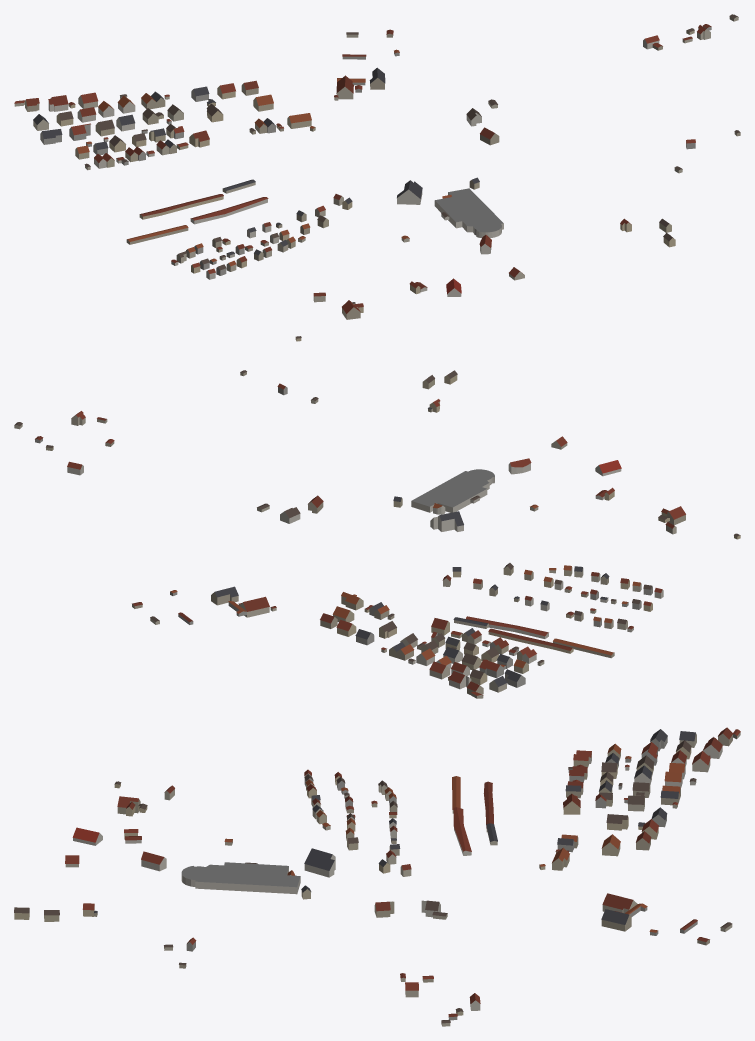
The picture shows the model from 3 angles, top to bottom: view 1: azimuth 30°, elevation 25°; view 2: azimuth 150°, elevation 25°; view 3: azimuth 270°, elevation 25°; orthographic projection. The views are drawn at different scales.
Parts seen in each view (by area): view 1: buildings; view 2: buildings; view 3: buildings.
Boxes of the visible parts, x1,y1,x2,y2 form: buildings: [14, 14, 740, 341]; buildings: [14, 370, 740, 698]; buildings: [14, 727, 740, 1026].
Bounding box in the file's own units: 625 × 95.08 × 567.
